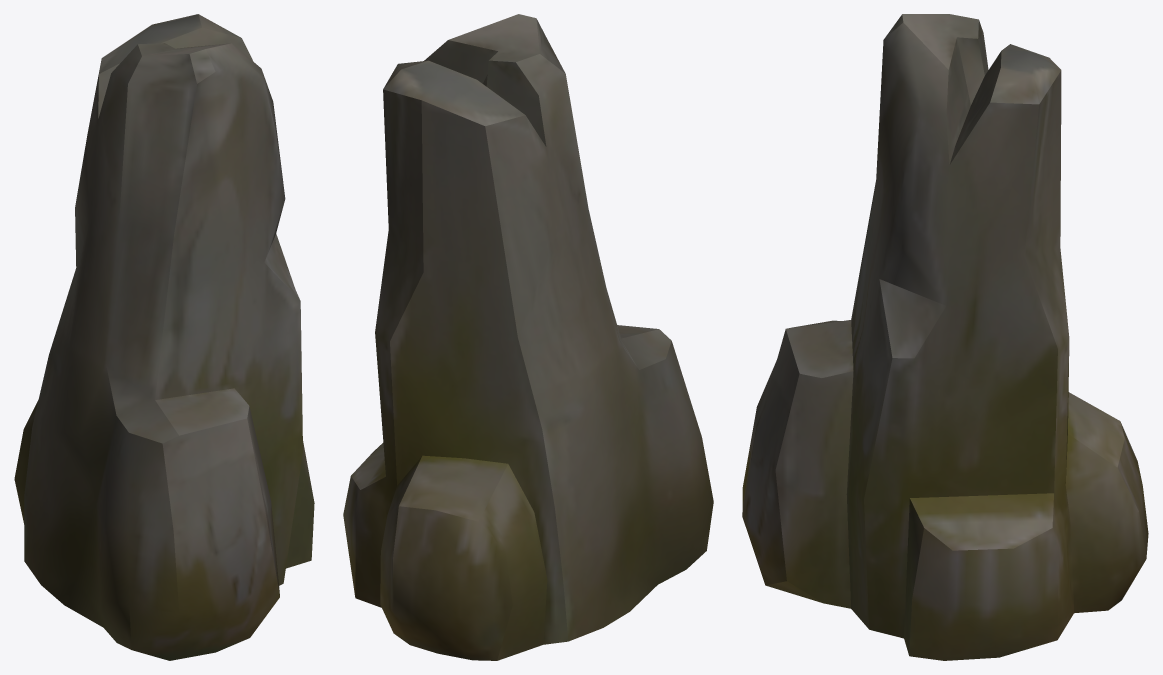
Rendered from Stone_A_001_006.fbx.
3 views of the same model, side by side, from view 1: azimuth 30°, elevation 25°; view 2: azimuth 150°, elevation 25°; view 3: azimuth 270°, elevation 25° (orthographic). The views are drawn at different scales.
Parts seen in each view (by area): view 1: Stone_A_001_006_LOD0; view 2: Stone_A_001_006_LOD0; view 3: Stone_A_001_006_LOD0.
Boxes of the visible parts, x1,y1,x2,y2 form: Stone_A_001_006_LOD0: (14, 14, 314, 660); Stone_A_001_006_LOD0: (343, 14, 713, 660); Stone_A_001_006_LOD0: (742, 14, 1148, 660).
Size of what is drawn, in the model's own units: 265 by 532 by 332.
1 material, 1 textured.
